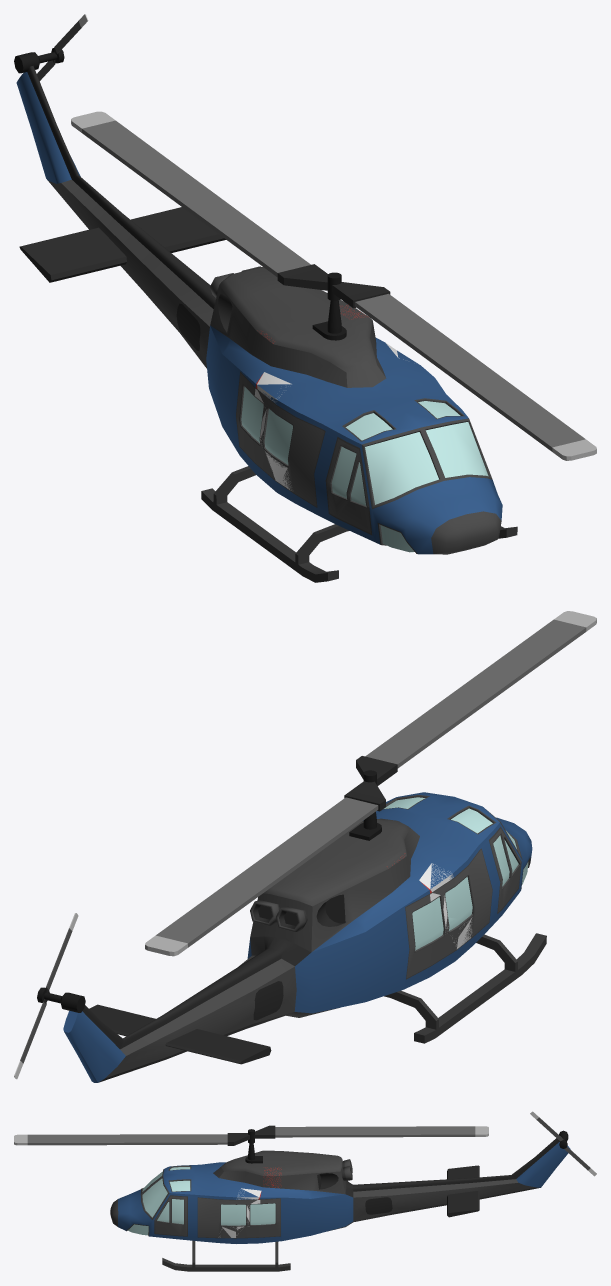
The model's file is SM_Vehilces_Helicopter_V1.fbx.
The picture shows the model from 3 angles, top to bottom: view 1: azimuth 30°, elevation 25°; view 2: azimuth 150°, elevation 25°; view 3: azimuth 270°, elevation 25°; orthographic projection. The views are drawn at different scales.
Visible parts, largest first — view 1: SM_Vehilces_Helicopter_V1, SM_Vehilces_Helicopter_F, SM_Vehilces_Helicopter_V2; view 2: SM_Vehilces_Helicopter_V1, SM_Vehilces_Helicopter_F, SM_Vehilces_Helicopter_V2, SM_Vehilces_Helicopter_B; view 3: SM_Vehilces_Helicopter_V1, SM_Vehilces_Helicopter_F, SM_Vehilces_Helicopter_V2, SM_Vehilces_Helicopter_B.
Boxes of the visible parts, x1=… form: SM_Vehilces_Helicopter_V1: x1=14, y1=48, x2=517, y2=582; SM_Vehilces_Helicopter_F: x1=71, y1=111, x2=596, y2=460; SM_Vehilces_Helicopter_V2: x1=252, y1=304, x2=403, y2=491; SM_Vehilces_Helicopter_V1: x1=37, y1=770, x2=546, y2=1082; SM_Vehilces_Helicopter_F: x1=145, y1=611, x2=596, y2=956; SM_Vehilces_Helicopter_V2: x1=387, y1=853, x2=472, y2=949; SM_Vehilces_Helicopter_B: x1=14, y1=913, x2=78, y2=1079; SM_Vehilces_Helicopter_V1: x1=110, y1=1129, x2=570, y2=1271; SM_Vehilces_Helicopter_F: x1=14, y1=1125, x2=488, y2=1145; SM_Vehilces_Helicopter_V2: x1=218, y1=1167, x2=281, y2=1238; SM_Vehilces_Helicopter_B: x1=530, y1=1111, x2=596, y2=1176.
Bounding box in the file's own units: 3.55 × 5.07 × 18.67.
